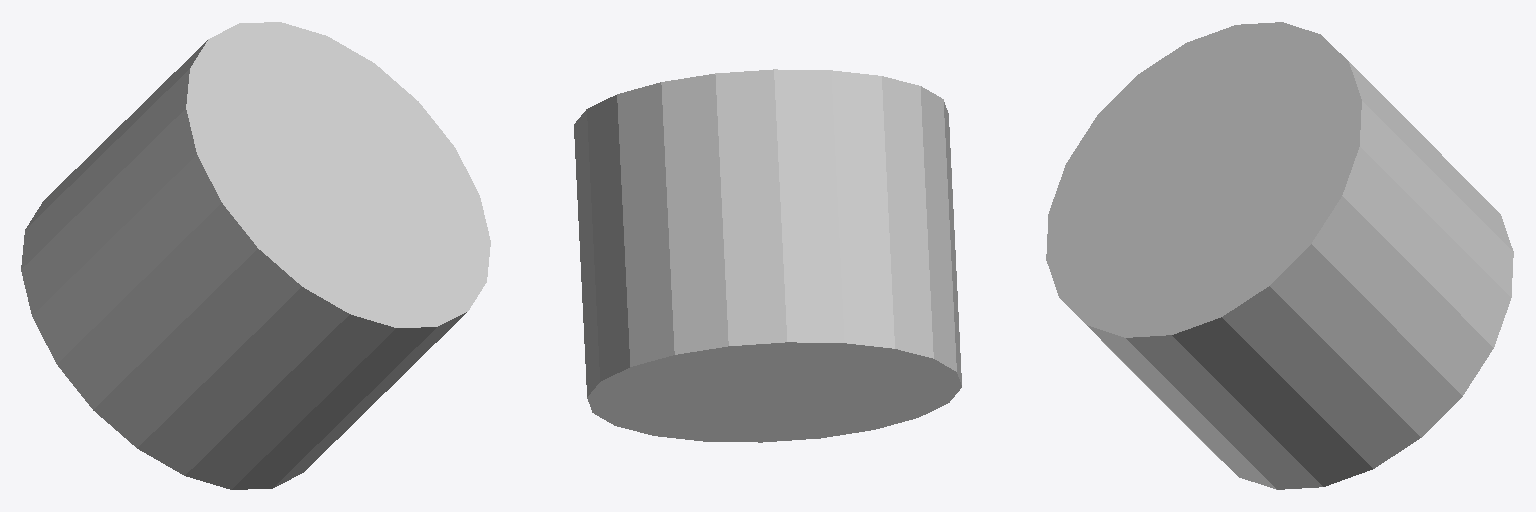
The model's file is Nervio_supraclavicular_I_1.obj.
3 views of the same model, side by side, from view 1: azimuth 30°, elevation 25°; view 2: azimuth 150°, elevation 25°; view 3: azimuth 270°, elevation 25° (orthographic).
Visible parts, largest first — view 1: polySurface60; view 2: polySurface60; view 3: polySurface60.
Part boxes in pixels (left/top/right/bottom): polySurface60: left=21, top=22, right=490, bottom=489; polySurface60: left=574, top=69, right=961, bottom=442; polySurface60: left=1046, top=22, right=1513, bottom=489.
Size of the model in its own units: 0.0334 by 0.0341 by 0.0347.